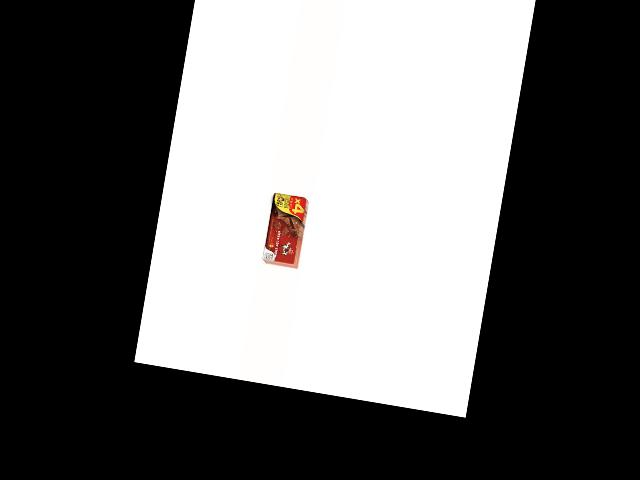chocolate: (260, 191, 309, 267)
